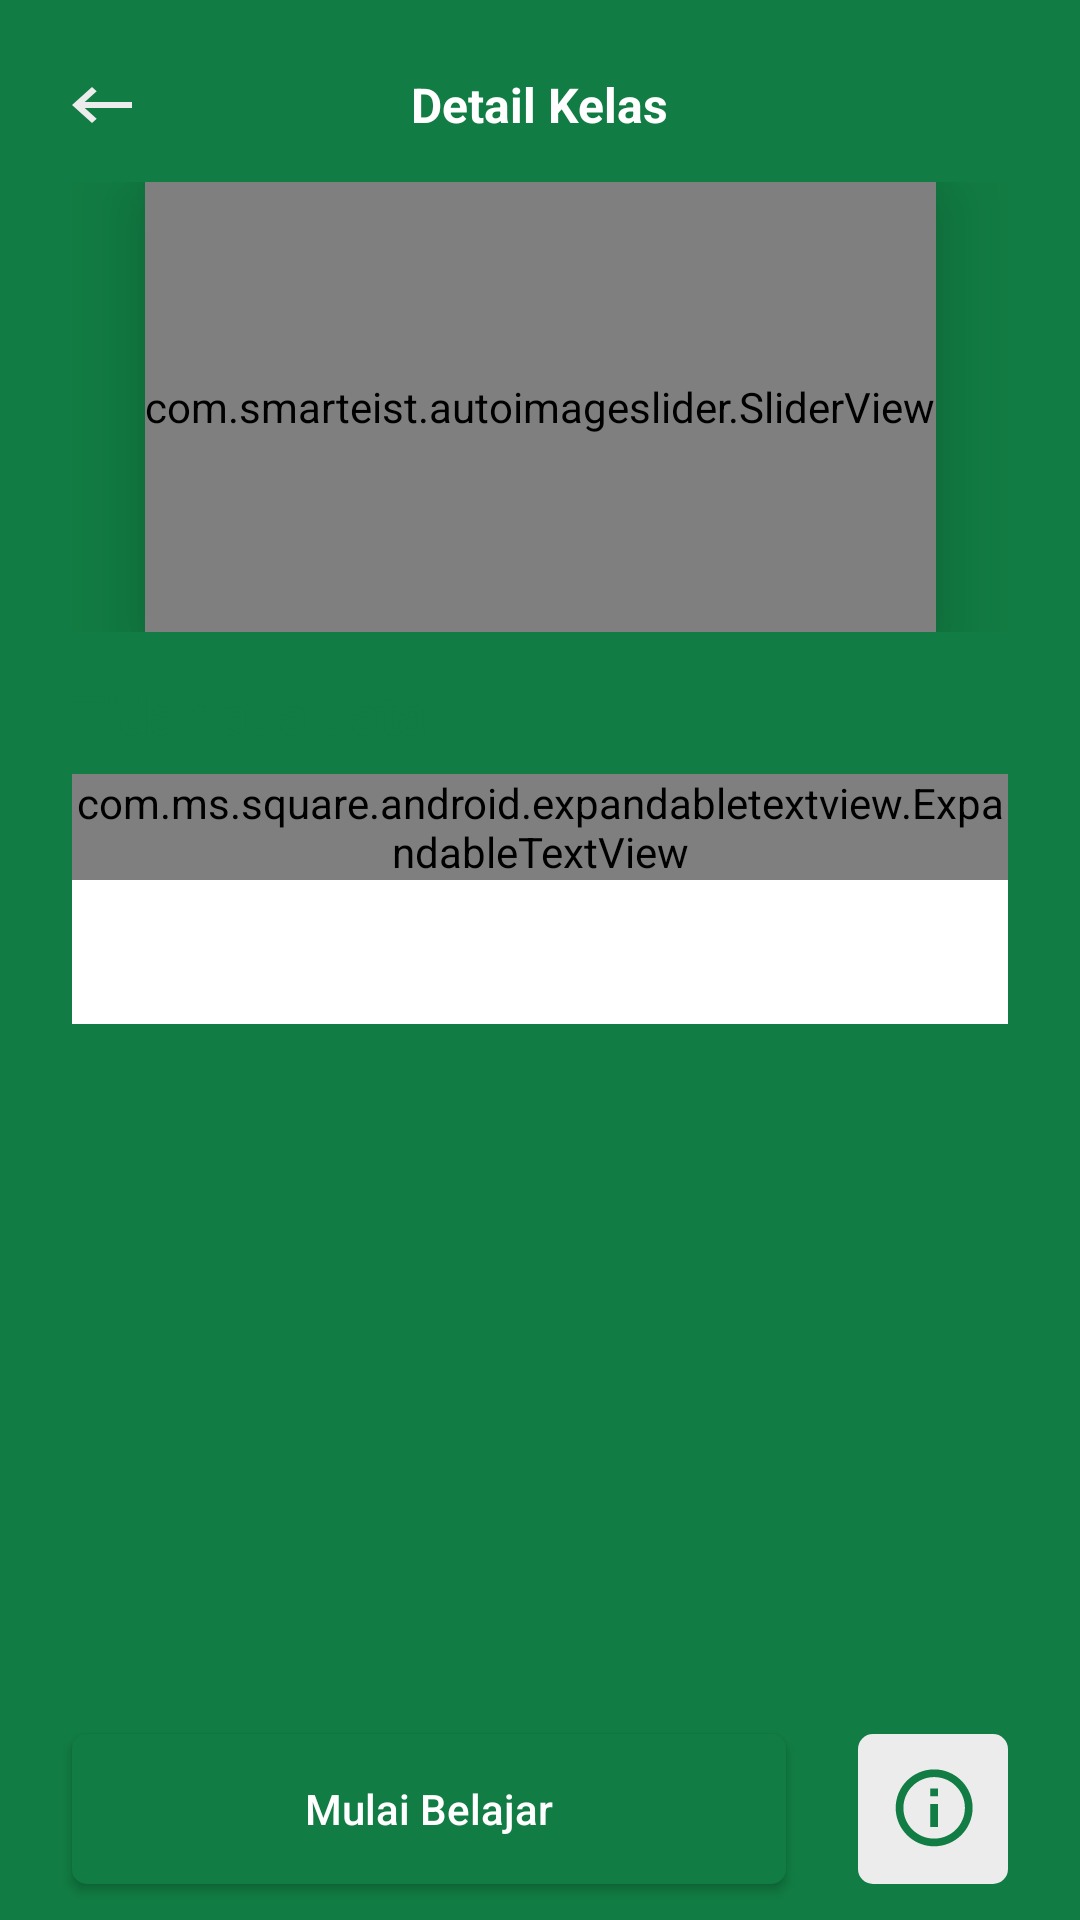

Icon bounding boxes for this 1080px x 1920px phone screenshot, format [x1,y1,x2,y2]:
Tombol Mundur: [72,87,132,123]
